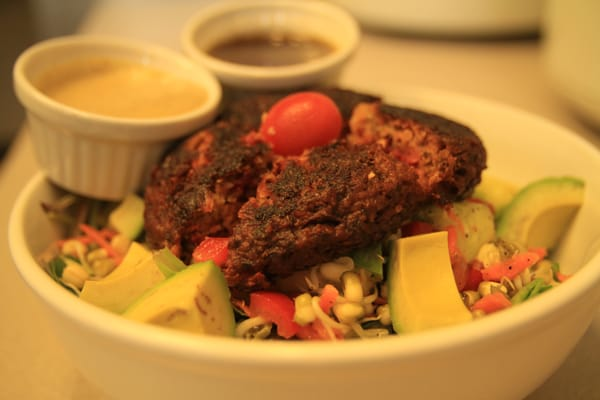sushi: (5, 25, 584, 394), (11, 32, 224, 201), (179, 1, 363, 94)
